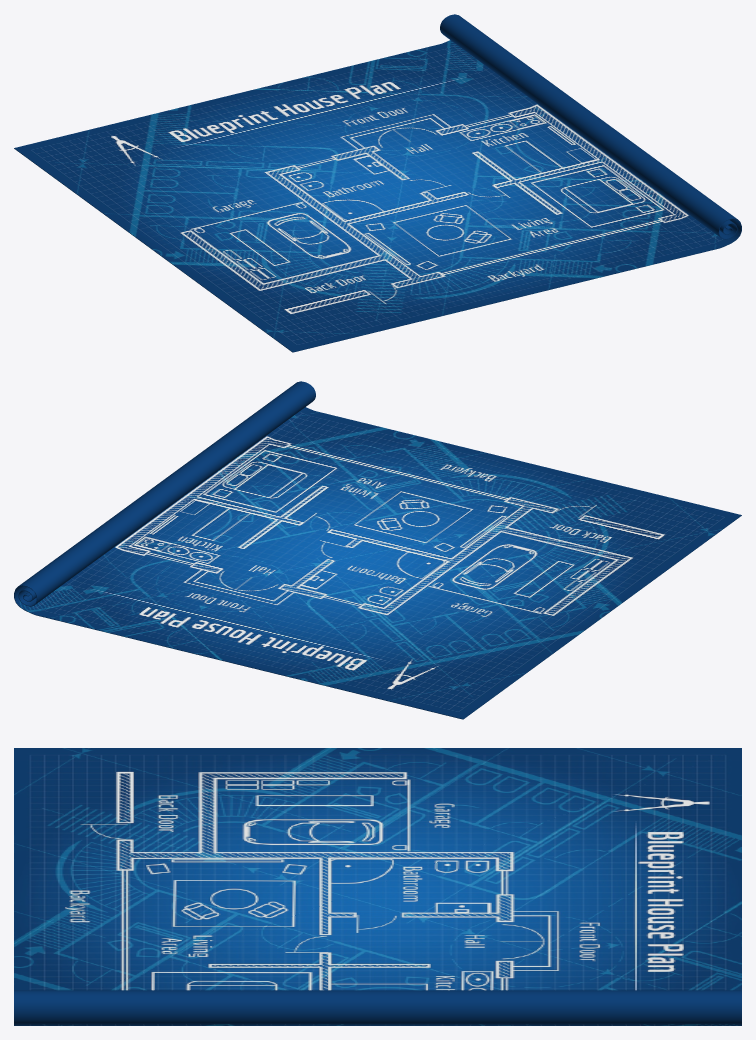
Rendered from Blueprint.fbx.
The picture shows the model from 3 angles, top to bottom: view 1: azimuth 30°, elevation 25°; view 2: azimuth 150°, elevation 25°; view 3: azimuth 270°, elevation 25°; orthographic projection. The views are drawn at different scales.
Parts seen in each view (by area): view 1: BluePrint; view 2: BluePrint; view 3: BluePrint.
Boxes of the visible parts, x1,y1,x2,y2 form: BluePrint: (14, 14, 741, 352); BluePrint: (14, 381, 741, 719); BluePrint: (14, 748, 741, 1025).
Size of the model in its own units: 74.43 by 4.27 by 80.
Materials: 1 (1 with a texture image).
